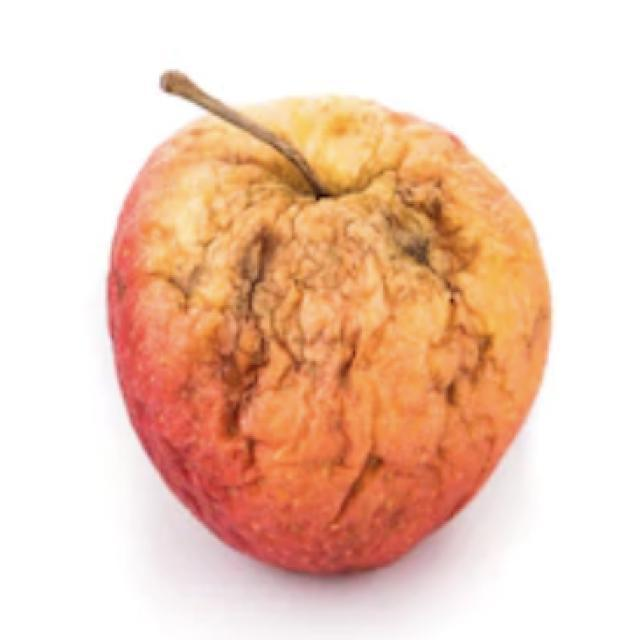Rotten: (105, 96, 560, 582)
